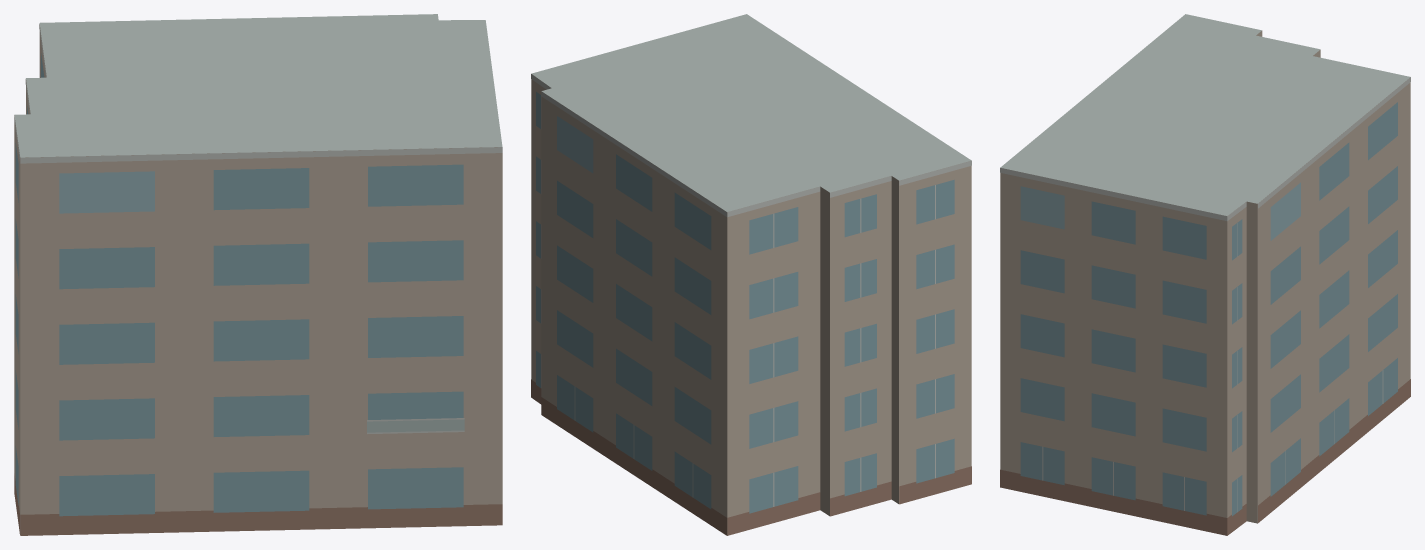
File: survey-upis-32629692.glb
3 views of the same model, side by side, from view 1: azimuth 30°, elevation 25°; view 2: azimuth 150°, elevation 25°; view 3: azimuth 270°, elevation 25° (orthographic). The views are drawn at different scales.
Visible parts, largest first — view 1: survey-upis-32629692.tmp; view 2: survey-upis-32629692.tmp; view 3: survey-upis-32629692.tmp.
Part boxes in pixels (x1,y1,x2,y2): survey-upis-32629692.tmp: (14,14,502,535); survey-upis-32629692.tmp: (531,14,971,535); survey-upis-32629692.tmp: (1000,14,1410,535).
Size of the model in its own units: 20.69 by 15.25 by 17.76.
